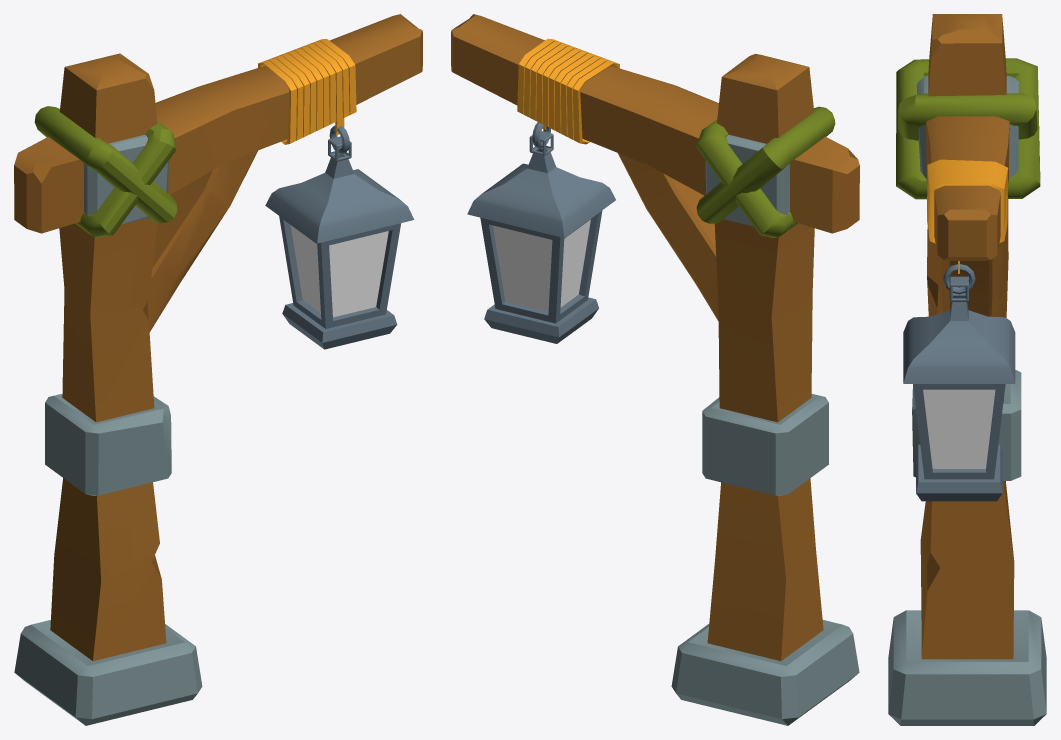
Rendered from Post_Lamp.fbx.
3 views of the same model, side by side, from view 1: azimuth 30°, elevation 25°; view 2: azimuth 150°, elevation 25°; view 3: azimuth 270°, elevation 25° (orthographic). The views are drawn at different scales.
Parts seen in each view (by area): view 1: Wood; view 2: Wood; view 3: Wood.
Part boxes in pixels (x1,y1,x2,y2): Wood: (14, 14, 422, 725); Wood: (451, 14, 859, 725); Wood: (888, 14, 1046, 725).
Size of the model in its own units: 6.9 by 10.47 by 2.22.
